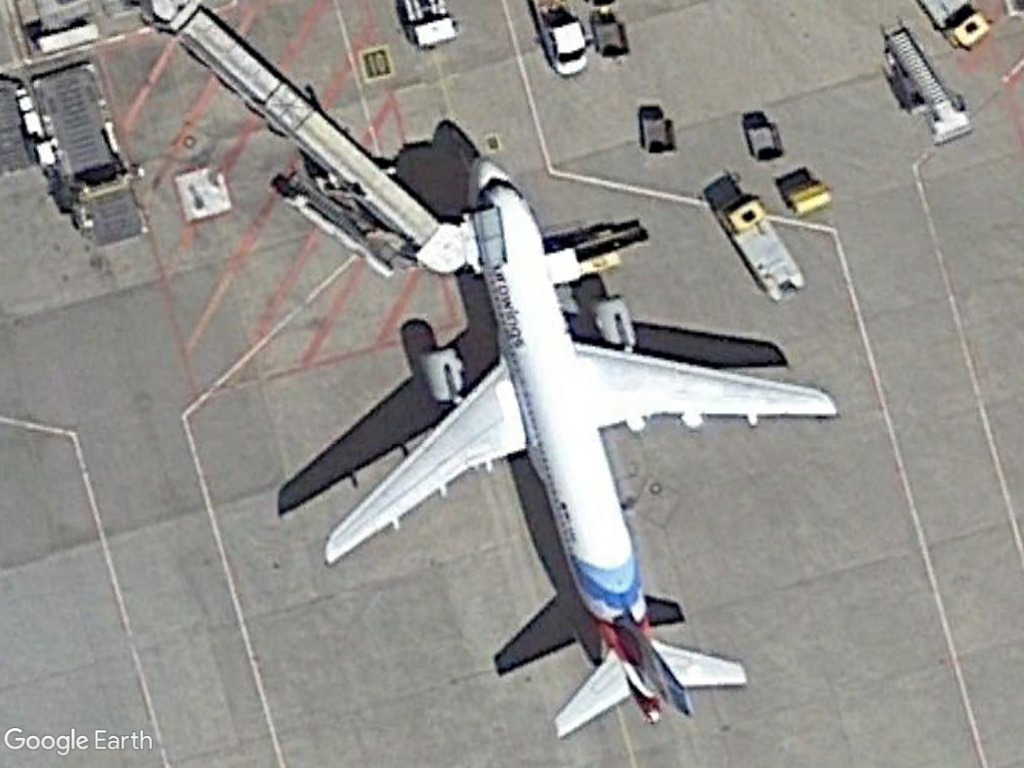airliner: (300, 151, 845, 744)
stairtruck: (878, 16, 978, 149)
